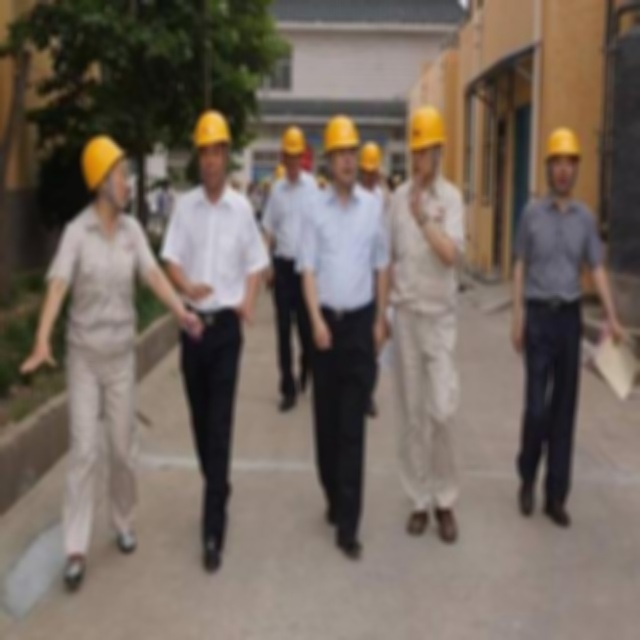Con_Casco: (192, 113, 231, 182), (323, 113, 360, 183)
Sin_Chaleco: (303, 188, 393, 325), (168, 188, 259, 314)
